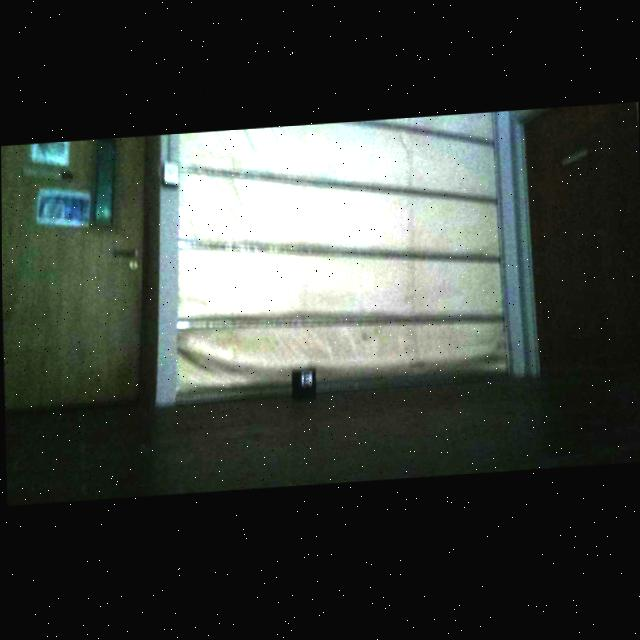E: (303, 379, 309, 388)
